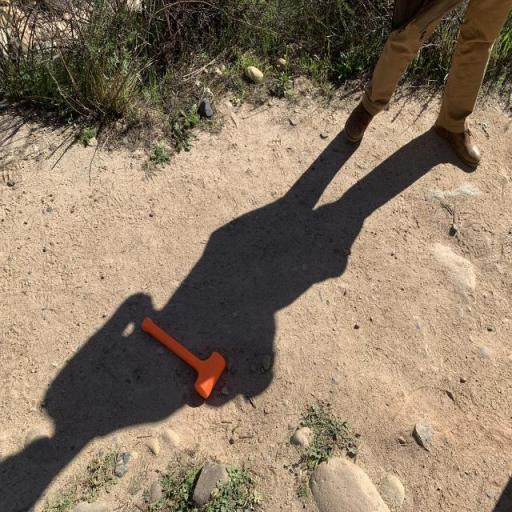mallet: (142, 317, 226, 399)
